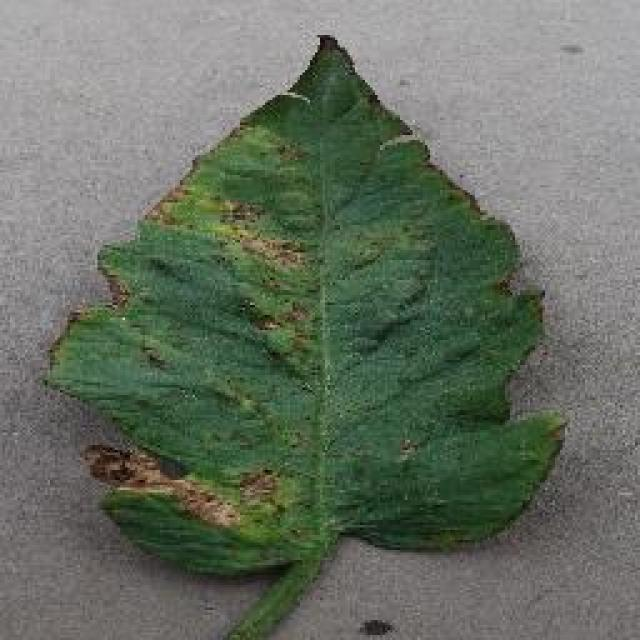Tomato bacterial spot leaf: (42, 40, 568, 640)
